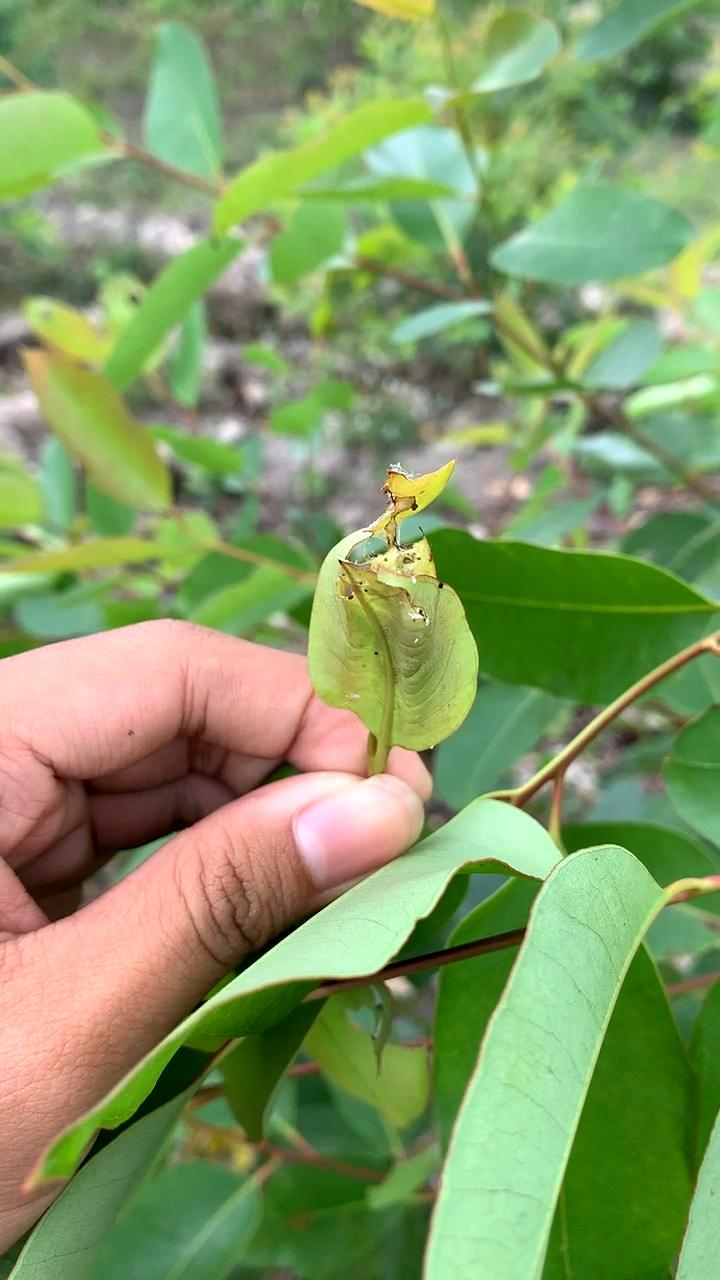Leaf Roller - Leaf: (306, 468, 477, 767)
